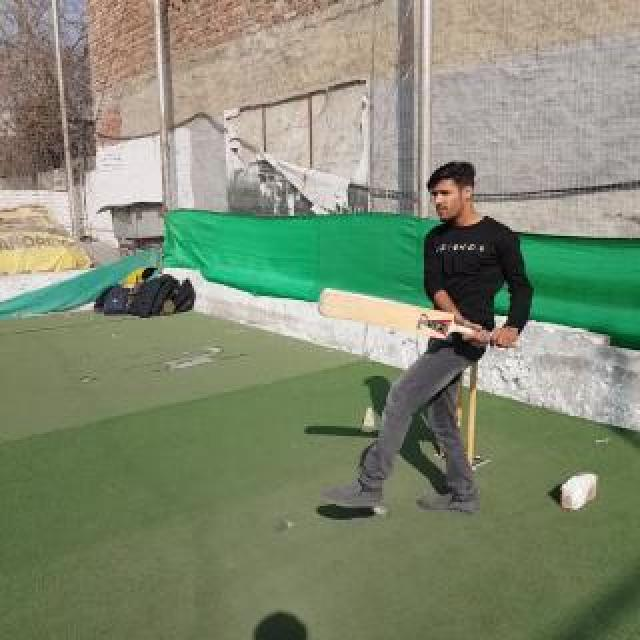bat: (319, 287, 521, 347)
